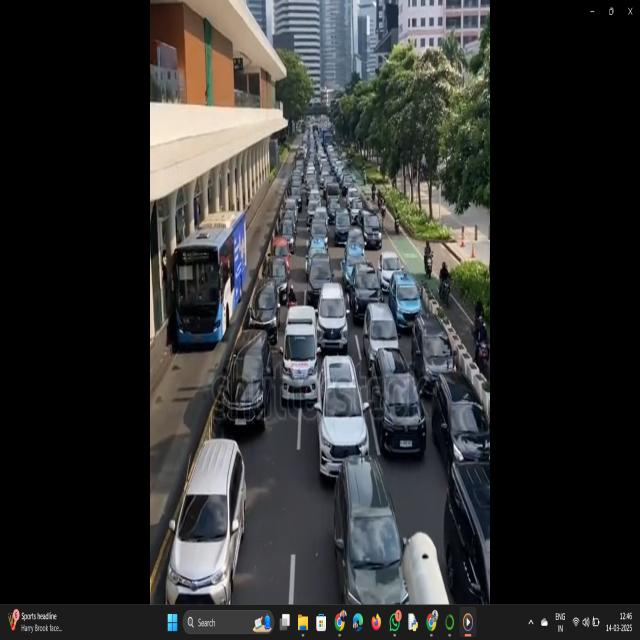Ambulance: (279, 304, 323, 409)
